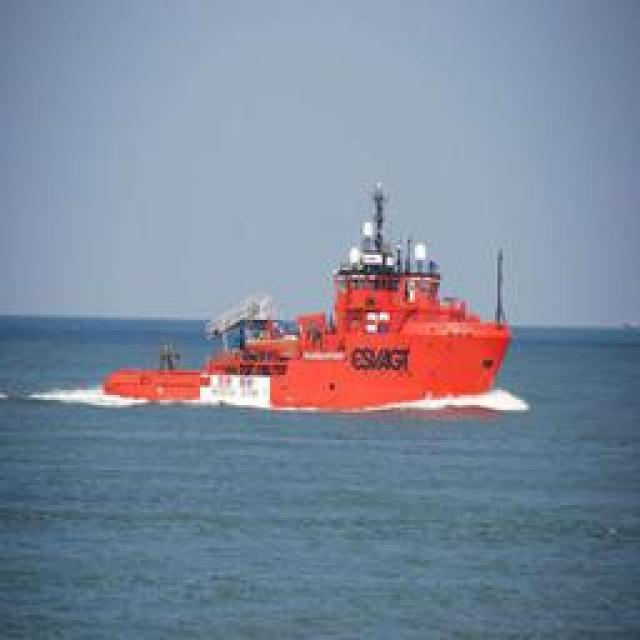CIV_Ship: (105, 180, 523, 418)
